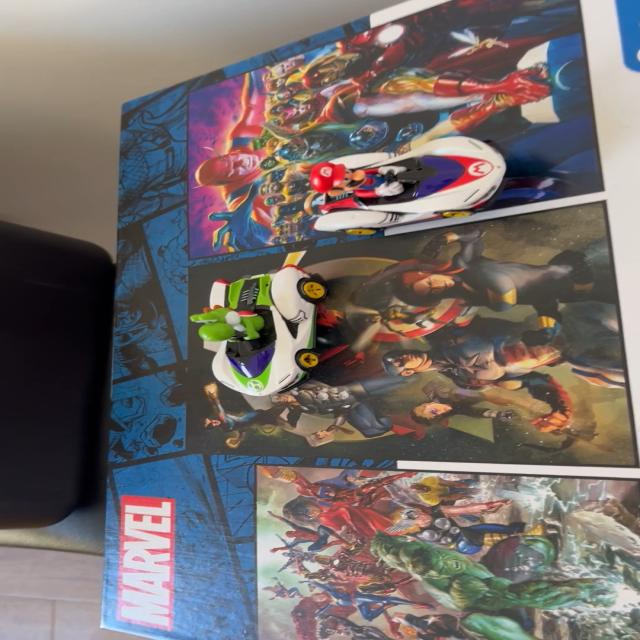mario: (299, 131, 530, 236)
yoshi: (184, 258, 343, 412)
